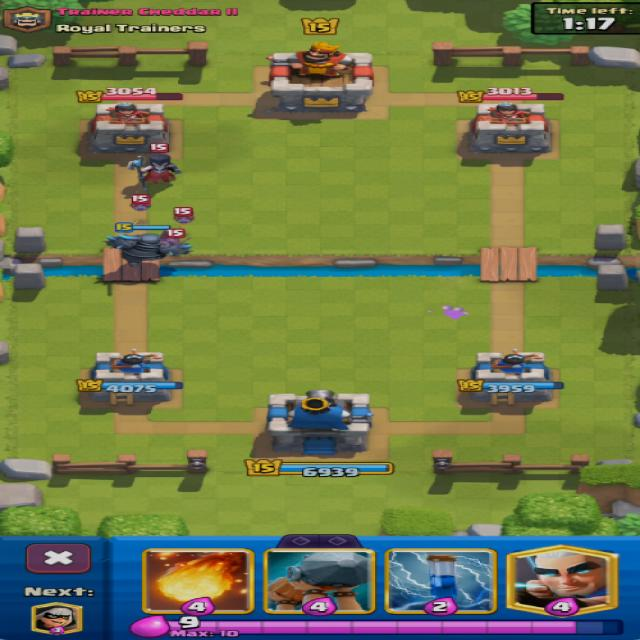Enemy-Bat: (172, 212, 196, 225), (161, 230, 179, 246), (131, 204, 150, 211)
Enemy-KingTower: (270, 42, 372, 114)
Enemy-NightWitch: (128, 154, 180, 187)
Enemy-PrincessTower: (88, 102, 169, 153), (470, 102, 549, 154)
